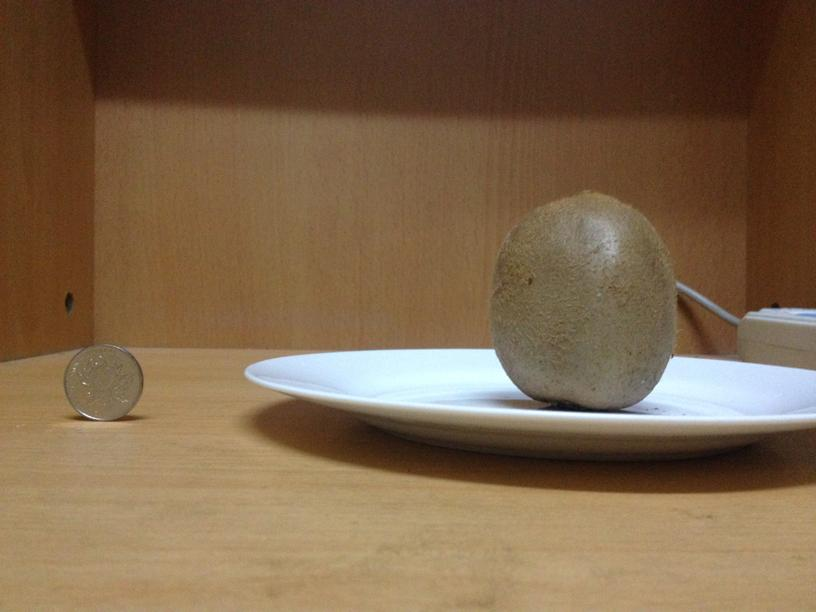coin: (61, 342, 144, 420)
qiwi: (497, 184, 677, 409)
